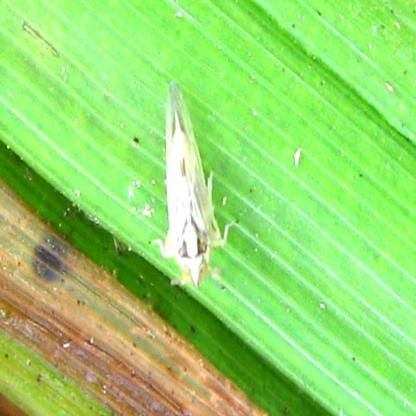brown-planthopper: (152, 80, 223, 288)
